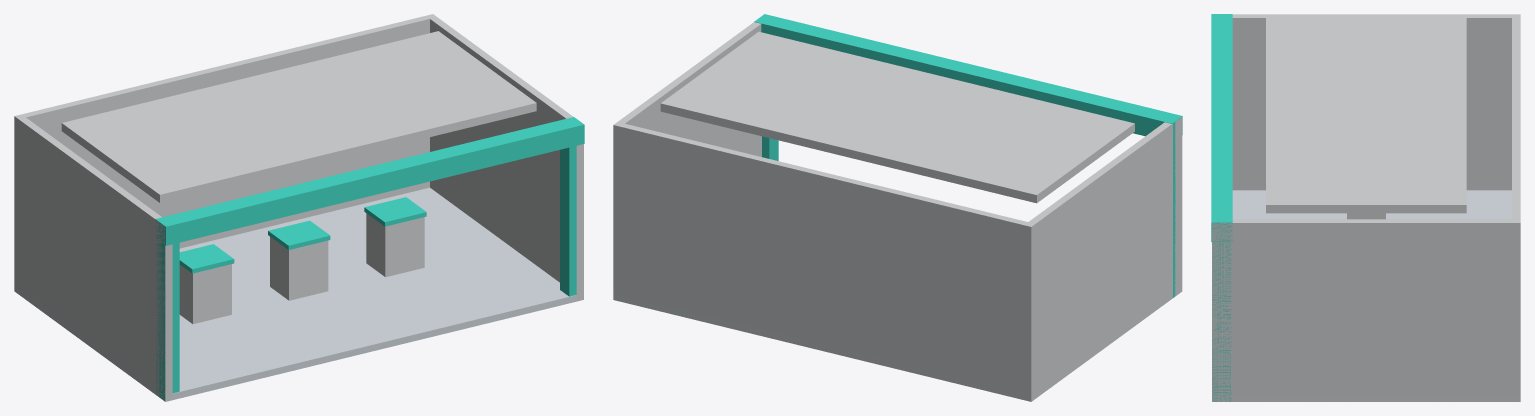
3 renders of one model, left to right at view 1: azimuth 30°, elevation 25°; view 2: azimuth 150°, elevation 25°; view 3: azimuth 270°, elevation 25°, orthographic. The views are drawn at different scales.
Visible parts, largest first — view 1: Exhibition Booth Concept; view 2: Exhibition Booth Concept; view 3: Exhibition Booth Concept.
Boxes of the visible parts, left/top/right/bottom form: Exhibition Booth Concept: left=14, top=14, right=584, bottom=401; Exhibition Booth Concept: left=613, top=14, right=1182, bottom=401; Exhibition Booth Concept: left=1211, top=14, right=1520, bottom=401.
Size of the model in its own units: 8 by 3.34 by 5.02.
